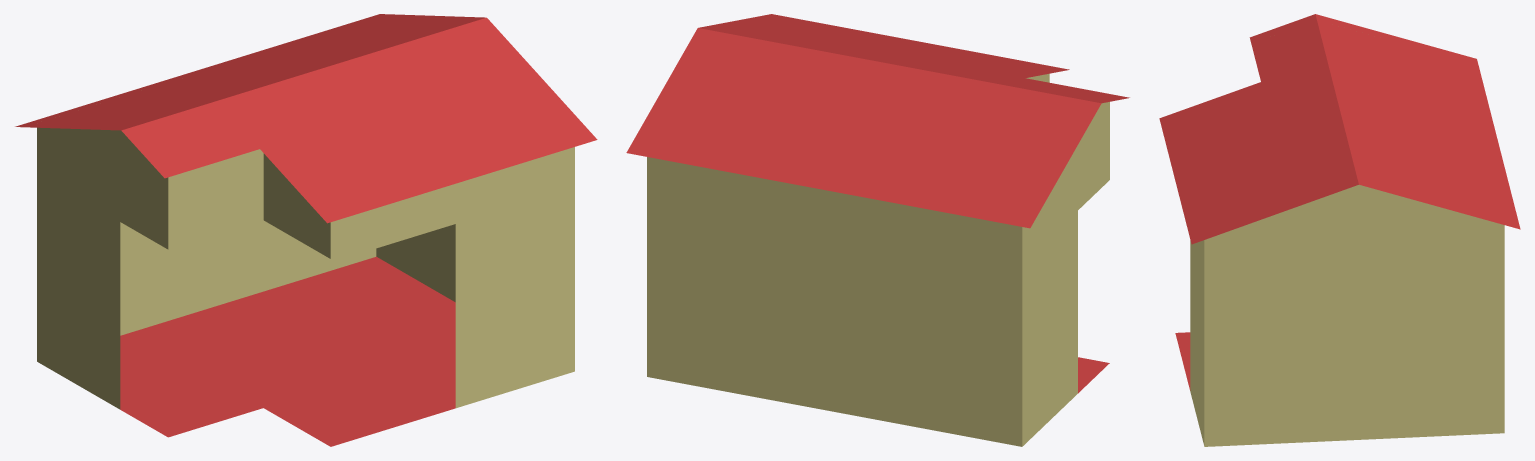
The picture shows the model from 3 angles, left to right: view 1: azimuth 30°, elevation 25°; view 2: azimuth 150°, elevation 25°; view 3: azimuth 270°, elevation 25°; orthographic projection. The views are drawn at different scales.
Bounding box in the file's own units: 15.17 × 12.47 × 9.96.
